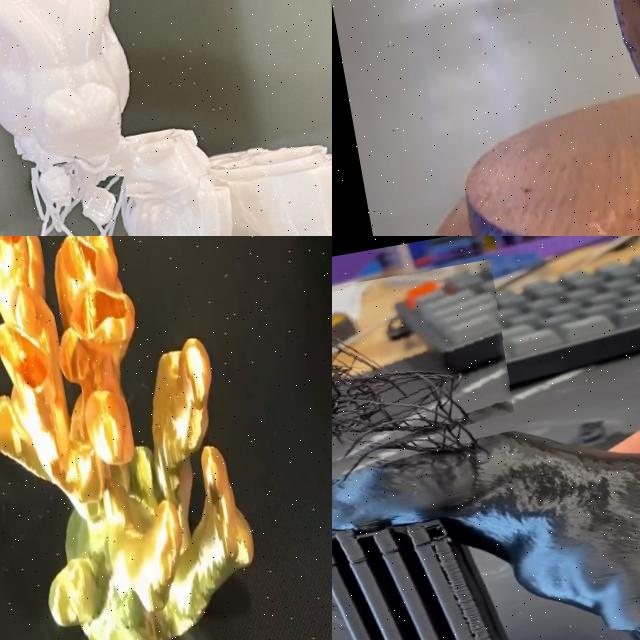spaghetti: (332, 258, 522, 498), (31, 160, 126, 236)
